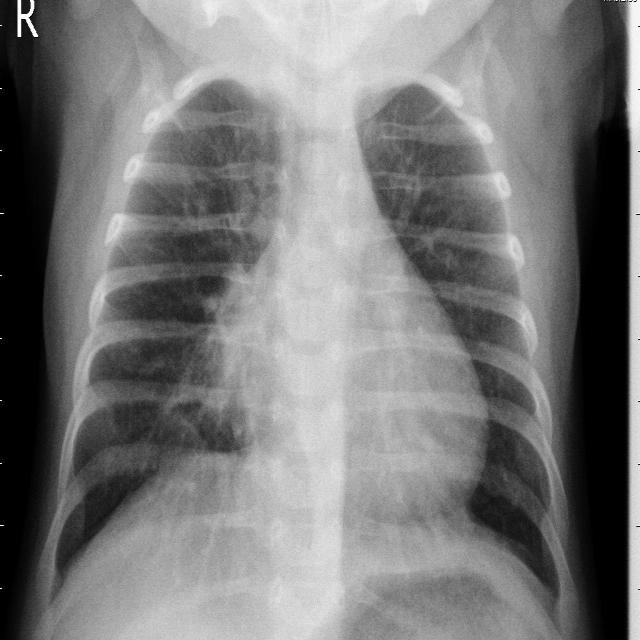low-pneumonia: (164, 270, 241, 442), (212, 100, 286, 256)
